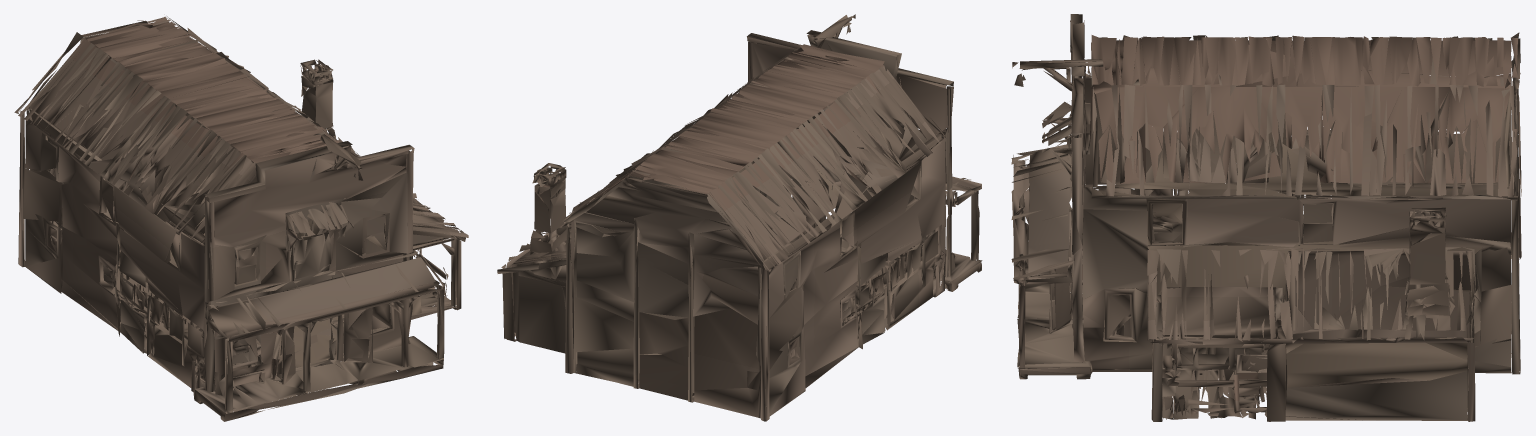
File: livery.glb
The picture shows the model from 3 angles, left to right: view 1: azimuth 30°, elevation 25°; view 2: azimuth 150°, elevation 25°; view 3: azimuth 270°, elevation 25°; orthographic projection. The views are drawn at different scales.
Visible parts, largest first — view 1: LO.001; view 2: LO.001; view 3: LO.001.
Boxes of the visible parts, bbox=[...] form: LO.001: bbox=[14, 16, 468, 421]; LO.001: bbox=[497, 14, 982, 421]; LO.001: bbox=[1011, 14, 1521, 421].
Size of the model in its own units: 16.02 by 11.75 by 19.97.
1 material, 1 textured.
